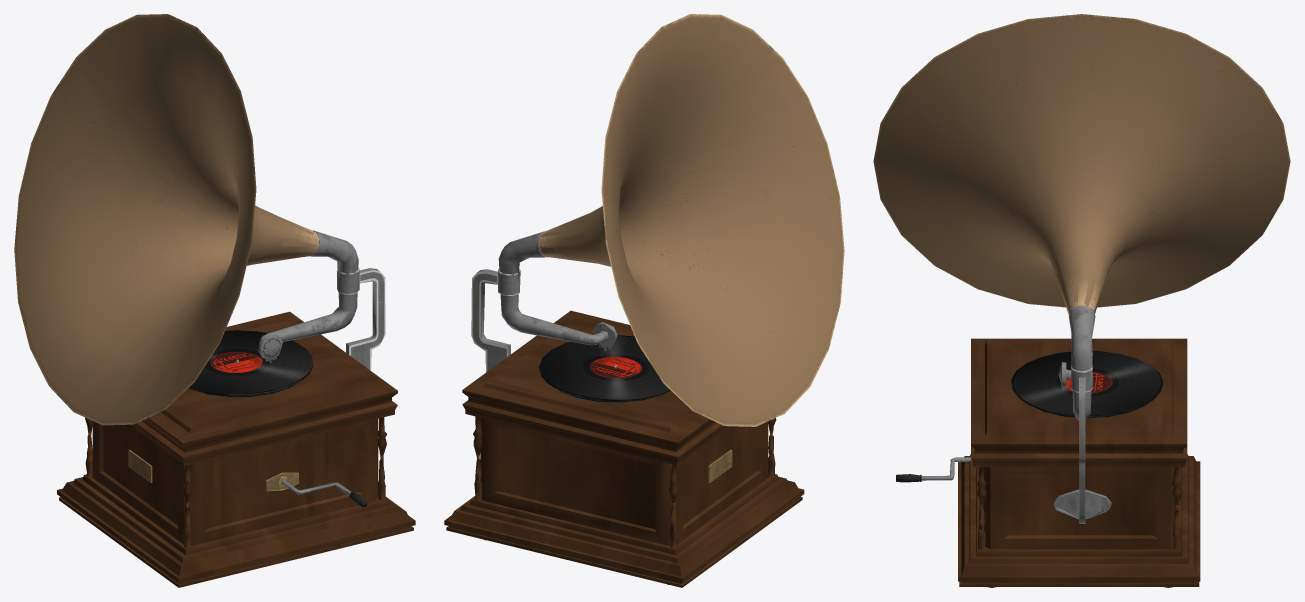
Rendered from gramophone.lod2.glb.
3 renders of one model, left to right at view 1: azimuth 30°, elevation 25°; view 2: azimuth 150°, elevation 25°; view 3: azimuth 270°, elevation 25°, orthographic.
Visible parts, largest first — view 1: Box002; view 2: Box002; view 3: Box002.
Part boxes in pixels (x1,y1,x2,y2): Box002: (14, 14, 415, 587); Box002: (444, 14, 844, 587); Box002: (873, 14, 1290, 587).
Bounding box in the file's own units: 1.28 × 2 × 1.49.
1 material, 1 textured.
